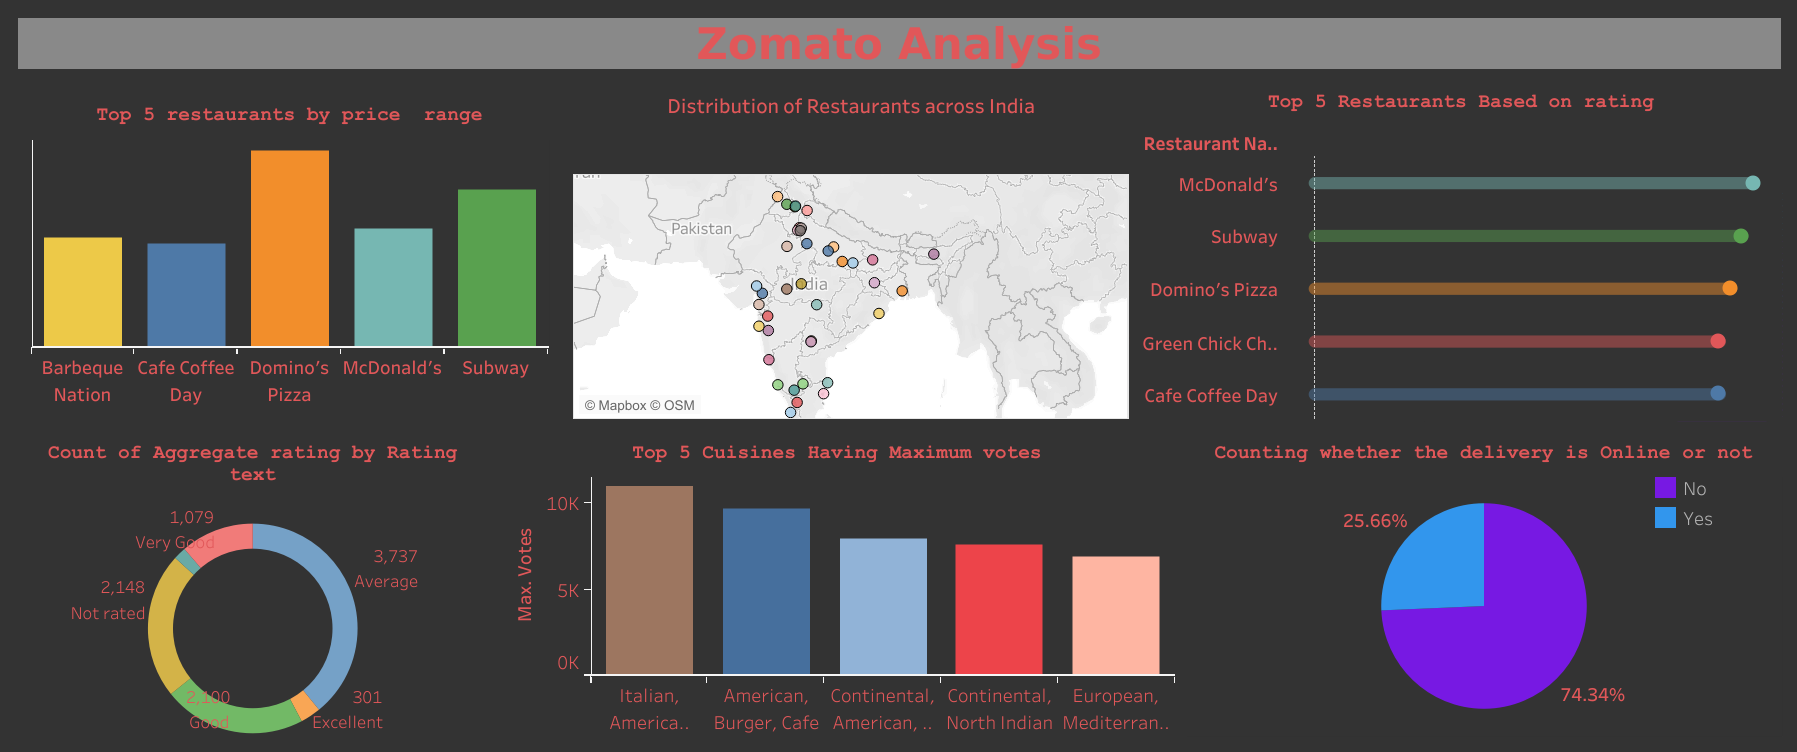

The page's visual inventory and layout, read from the dashboard file:
{"tool":"tableau","page":{"name":"Dashboard 1","canvas":[1000,1000],"units":"permille","ordinal":0},"visuals":[{"type":"title","box":[7.4,15,985.2,74.8]},{"type":"worksheet","title":"restaurants by price range","mark":"Automatic","rows":["Price range"],"cols":["Restaurant Name"],"box":[7.4,89.7,307.8,471]},{"type":"worksheet","title":"country","mark":"Multipolygon","box":[315.2,89.7,316,471]},{"type":"worksheet","title":"Sheet 9","mark":"Bar","rows":["Restaurant Name"],"cols":["Aggregate rating"],"box":[631.2,89.7,361.4,471]},{"type":"worksheet","title":"count aggrigate ","mark":"Pie","rows":["Calculation_625718885535514625","Calculation_625718885535551491"],"box":[7.4,560.7,296.7,424.3]},{"type":"worksheet","title":"Sheet 10","mark":"Automatic","rows":["Votes"],"cols":["Cuisines"],"box":[304.1,560.7,352.1,424.3]},{"type":"worksheet","title":"has online delivery","mark":"Pie","box":[656.2,560.7,336.4,424.3]},{"type":"legend","title":"has online delivery","param":"[federated.142zhl80o1wntv1gkvu2j16pnfo6].[none:Has Online delivery:nk]","box":[917.7,628,85.1,117.8]}]}

Visuals, with their boxes on the dashboard's canvas, which has no fixed pixel size, in thousandths of its width and height (x1, y1, x2, y2). These are canvas units, not pixel positions in the 1797x752 screenshot, which may show the page scaled, cropped or inside an application window:
title: (7, 15, 993, 90)
"restaurants by price range" worksheet: (7, 90, 315, 561)
"country" worksheet (Multipolygon marks): (315, 90, 631, 561)
"Sheet 9" worksheet (Bar marks): (631, 90, 993, 561)
"count aggrigate " worksheet (Pie marks): (7, 561, 304, 985)
"Sheet 10" worksheet: (304, 561, 656, 985)
"has online delivery" worksheet (Pie marks): (656, 561, 993, 985)
"has online delivery" legend: (918, 628, 1003, 746)
